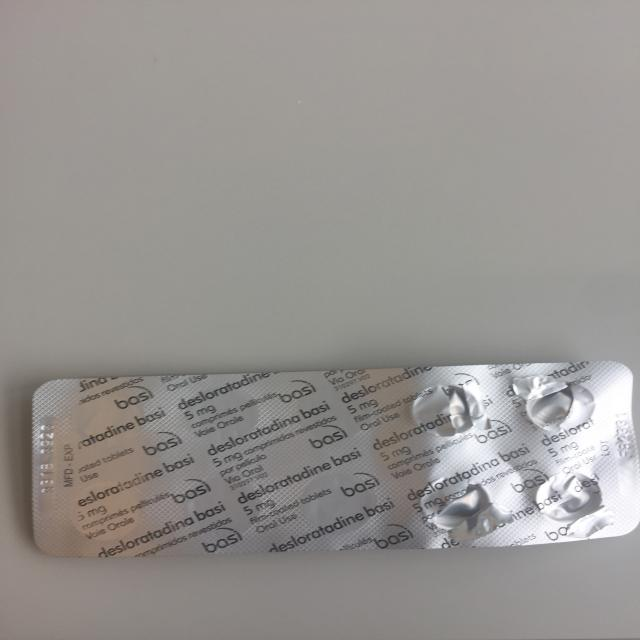Empty: (415, 473, 504, 539), (510, 376, 597, 435), (529, 468, 610, 531), (405, 380, 490, 440)
Pill: (292, 469, 380, 535), (184, 474, 266, 538), (64, 480, 146, 543), (179, 384, 265, 444), (289, 381, 375, 439), (68, 387, 147, 445)
